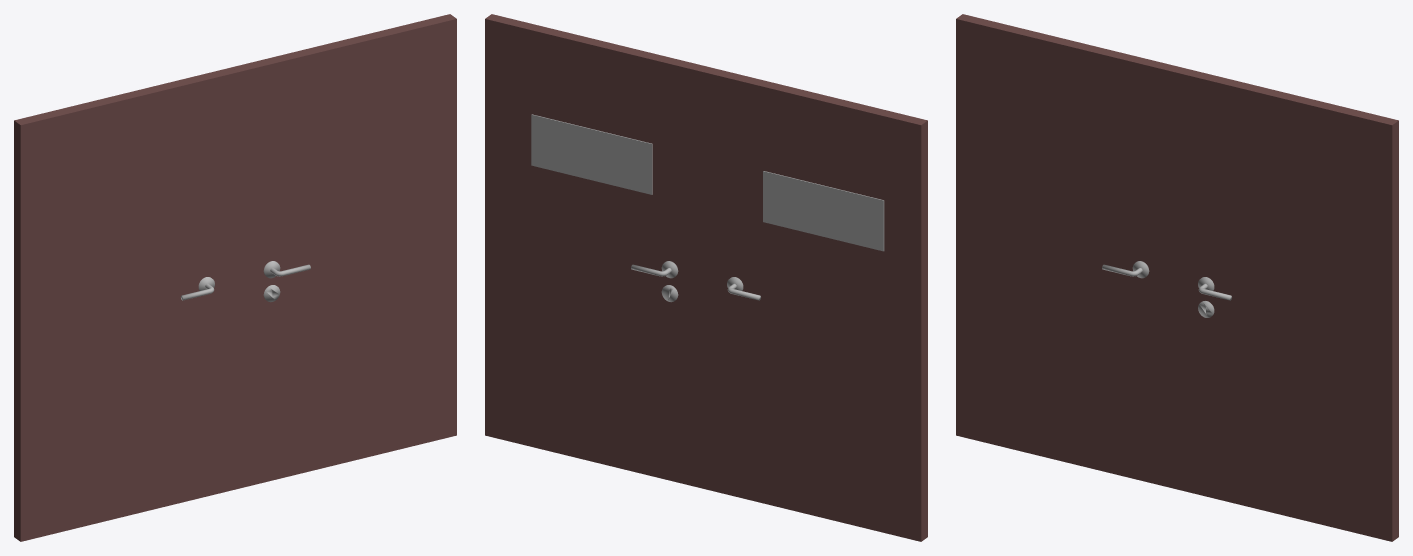
Rendered from Staff_Double_Door.fbx.
The picture shows the model from 3 angles, left to right: view 1: azimuth 30°, elevation 25°; view 2: azimuth 150°, elevation 25°; view 3: azimuth 330°, elevation 25°; orthographic projection.
Visible parts, largest first — view 1: Right, Left; view 2: Right, Left; view 3: Left, Right.
Boxes of the visible parts, left/top/right/bottom form: Right: left=14, top=67, right=238, bottom=541; Left: left=232, top=14, right=456, bottom=488; Right: left=703, top=67, right=927, bottom=541; Left: left=485, top=14, right=709, bottom=488; Left: left=1174, top=67, right=1398, bottom=541; Right: left=956, top=14, right=1180, bottom=488.
Size of the model in its own units: 292 by 267 by 27.09.
